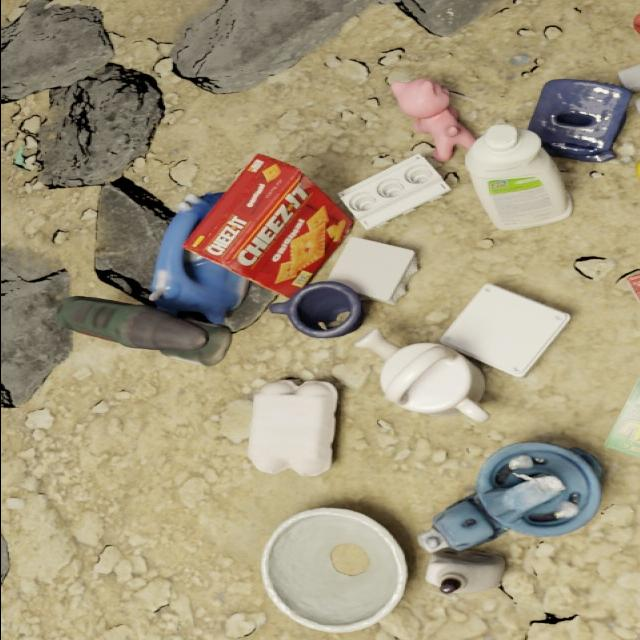Other Objects: (56, 194, 275, 366), (184, 155, 351, 297), (419, 443, 601, 554), (260, 509, 407, 633), (439, 284, 569, 377), (464, 124, 571, 230), (247, 380, 336, 476), (379, 343, 485, 422), (339, 154, 449, 230), (528, 81, 631, 162), (389, 79, 473, 162), (327, 238, 413, 304), (425, 549, 504, 595), (359, 332, 391, 355)
